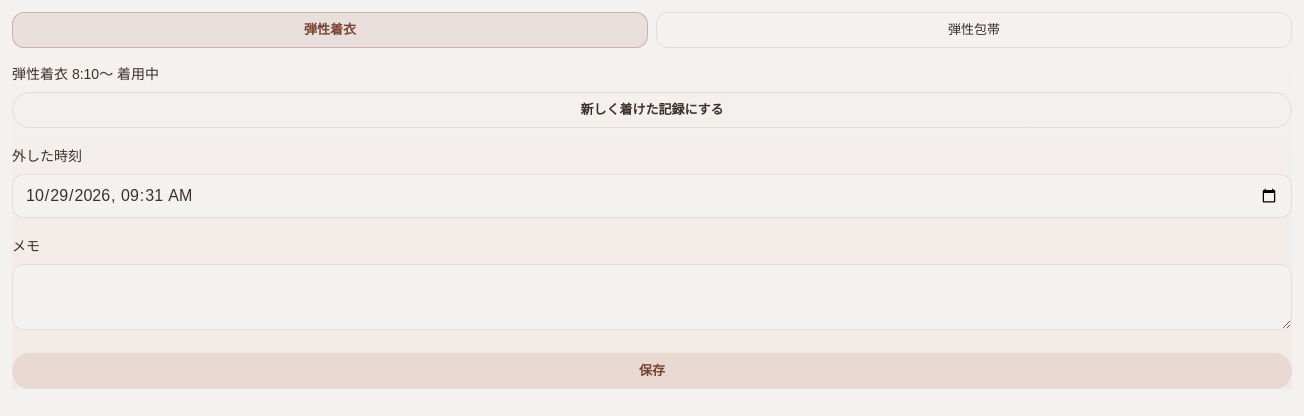
Test: CompressionForm › switches to a new put-on for another kind or on request
Expected: the text "弾性着衣 8:10〜 着用中" is shown, [12,66,159,82]
Click the radio button labelled "弾性包帯": (974, 30) [656,12,1292,48]
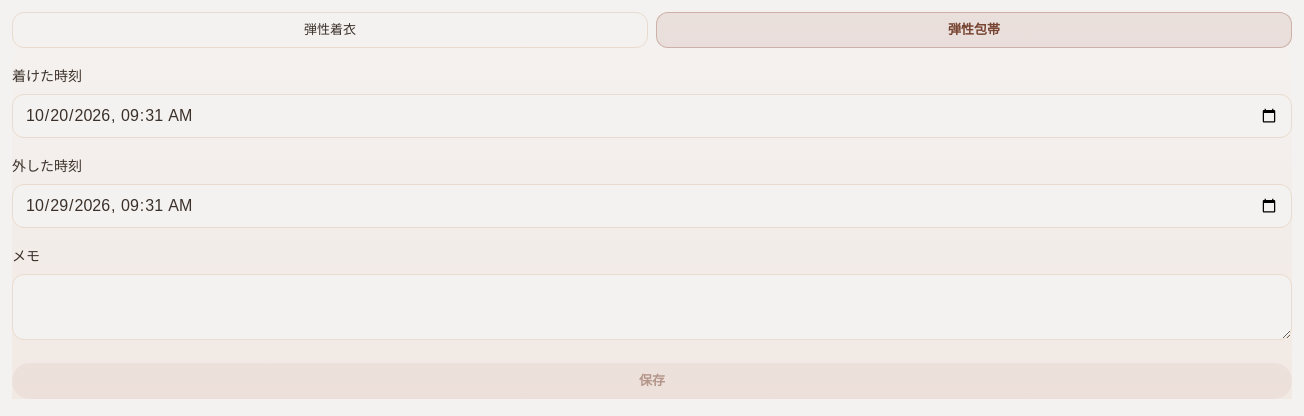
Now the text "弾性着衣 8:10〜 着用中" is gone
Now the field labelled "着けた時刻" is shown, box [12,94,1292,138]
Click the radio button labelled "弾性着衣": (330, 30) [12,12,648,48]
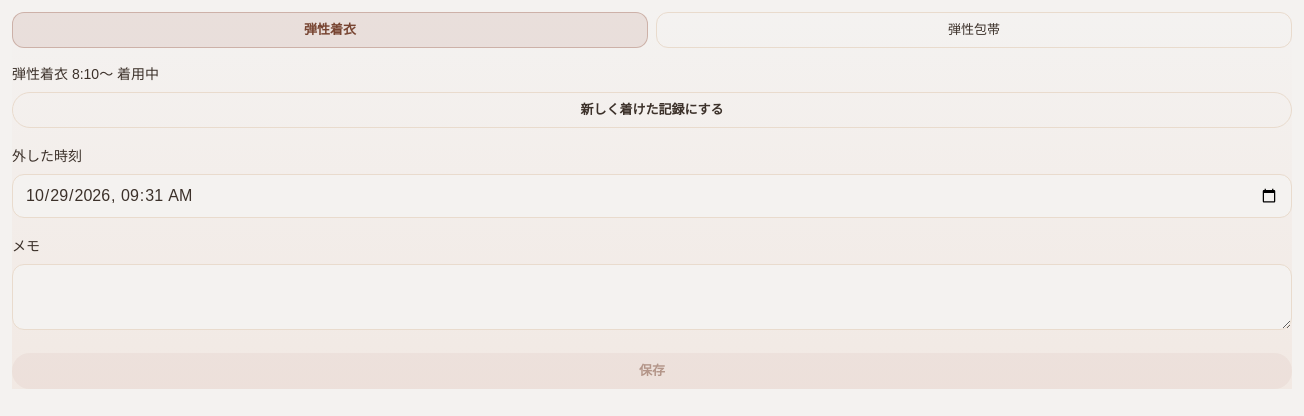
Now the text "弾性着衣 8:10〜 着用中" is shown, box [12,66,159,82]
Click the button "新しく着けた記録にする": (652, 110) [12,92,1292,128]
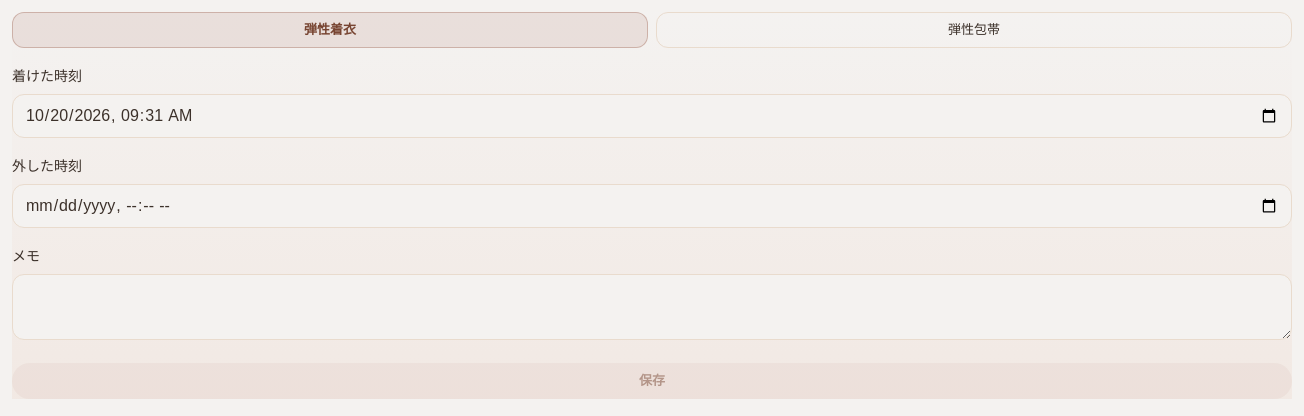
Now the text "弾性着衣 8:10〜 着用中" is gone
Now the field labelled "着けた時刻" is shown, box [12,94,1292,138]
